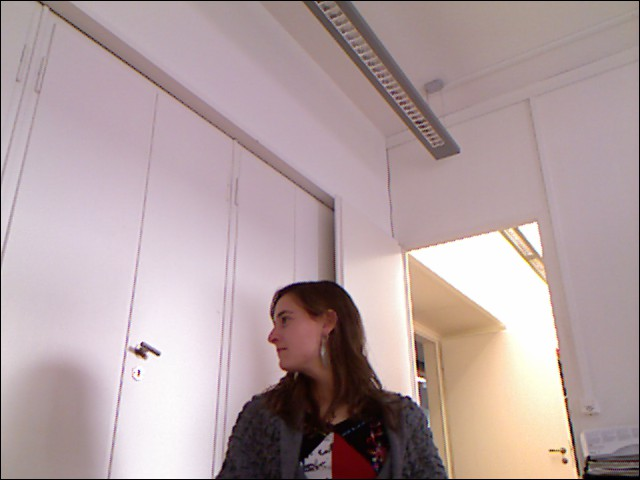deflection: (237, 286, 447, 465)
